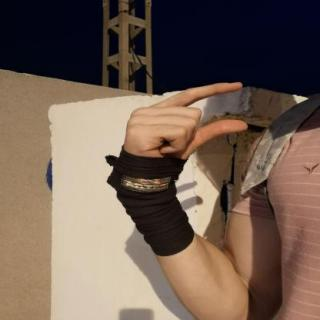DELL: (112, 73, 255, 184)
